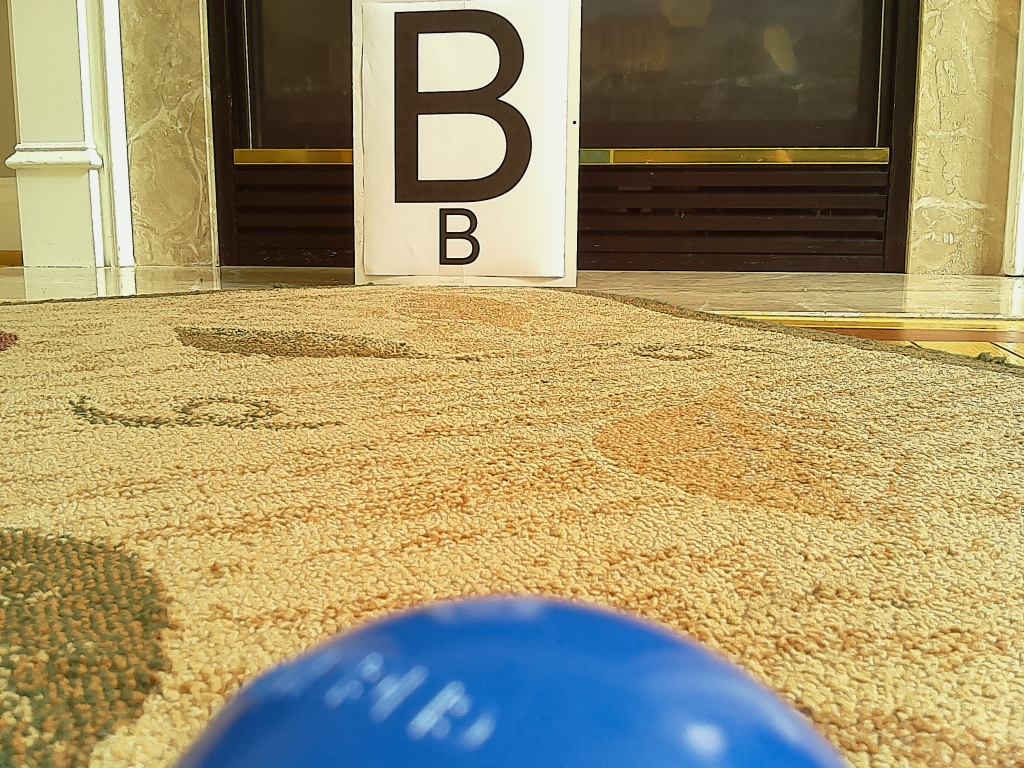letter: (394, 10, 534, 203)
